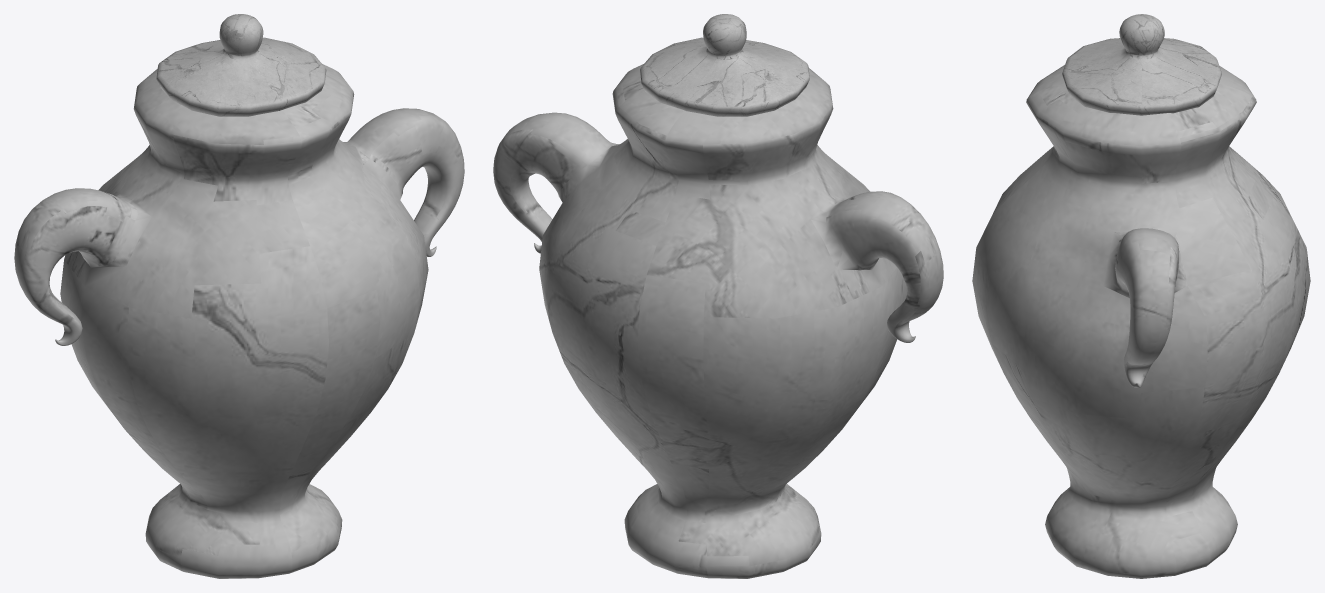
Rendered from SoulUrn.fbx.
3 views of the same model, side by side, from view 1: azimuth 30°, elevation 25°; view 2: azimuth 150°, elevation 25°; view 3: azimuth 270°, elevation 25° (orthographic).
Visible parts, largest first — view 1: GrimoraUrn; view 2: GrimoraUrn; view 3: GrimoraUrn.
Boxes of the visible parts, left/top/right/bottom form: GrimoraUrn: left=14, top=14, right=464, bottom=578; GrimoraUrn: left=493, top=14, right=943, bottom=578; GrimoraUrn: left=972, top=14, right=1310, bottom=578.
Bounding box in the file's own units: 284 × 324 × 191.
